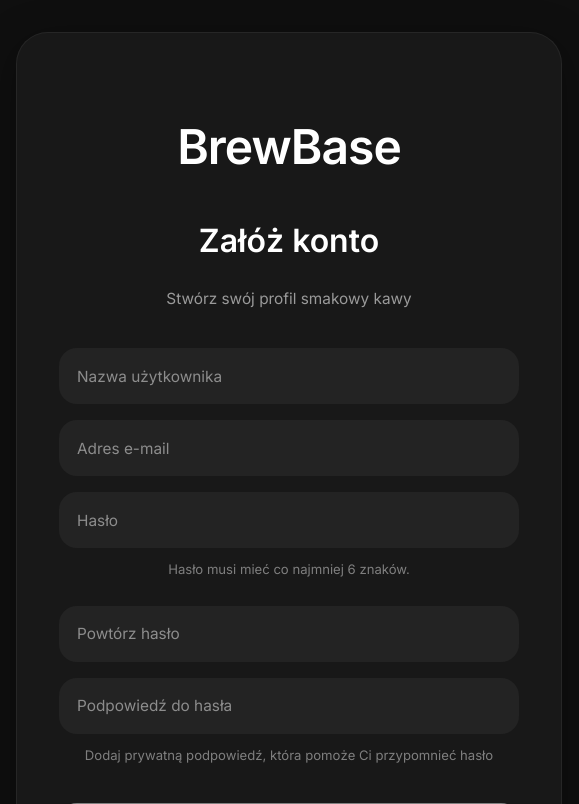
Scenario: RegisterPage › shows error when registration fails
Type "existing-user" into the field with placeholder "Nazwa użytkownika". click: (289, 376)
box: [59,348,519,404]
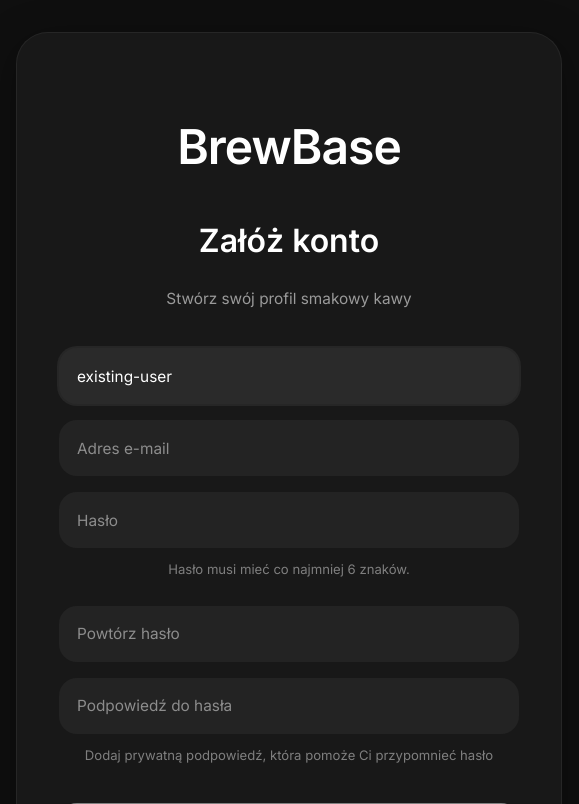
Type "existing-user@brewbase.local" into the field with placeholder "Adres e-mail". click: (289, 448)
box: [59,420,519,476]
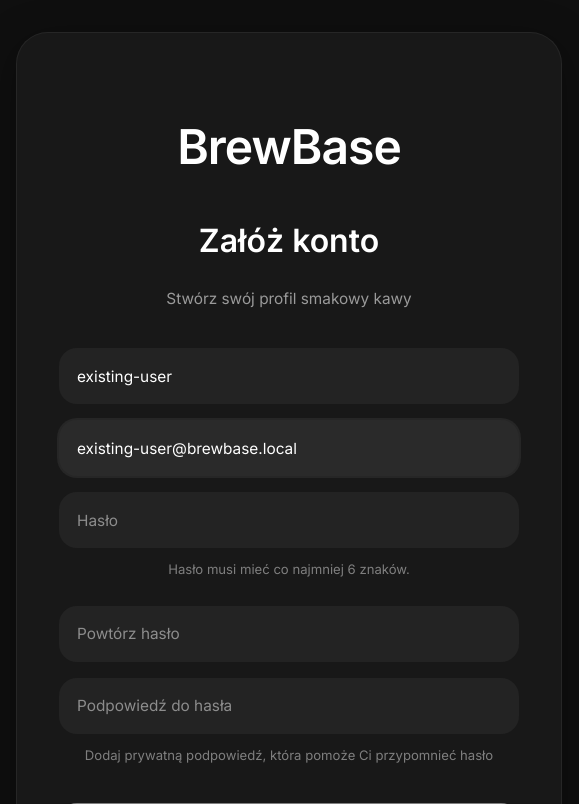
Type "secret123" into the password field with placeholder "Hasło". click: (289, 520)
box: [59,492,519,548]
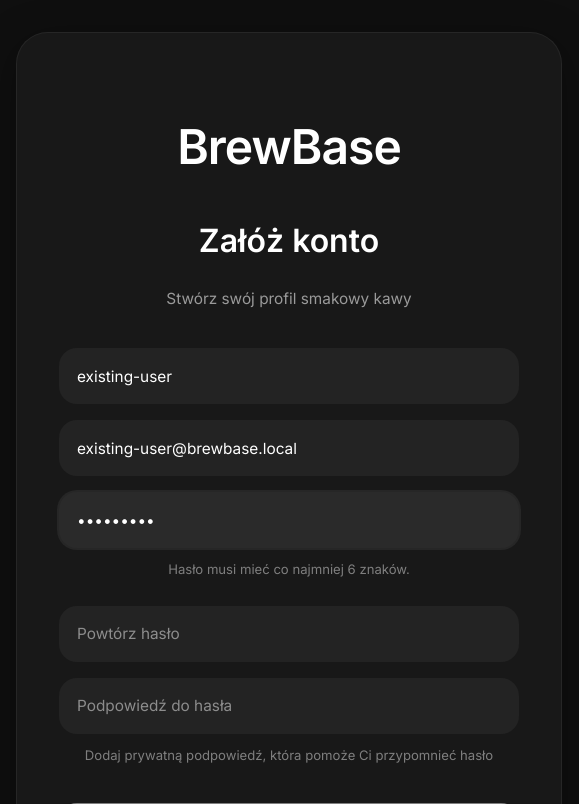
Type "secret123" into the password field with placeholder "Powtórz hasło". click: (289, 634)
box: [59,606,519,662]
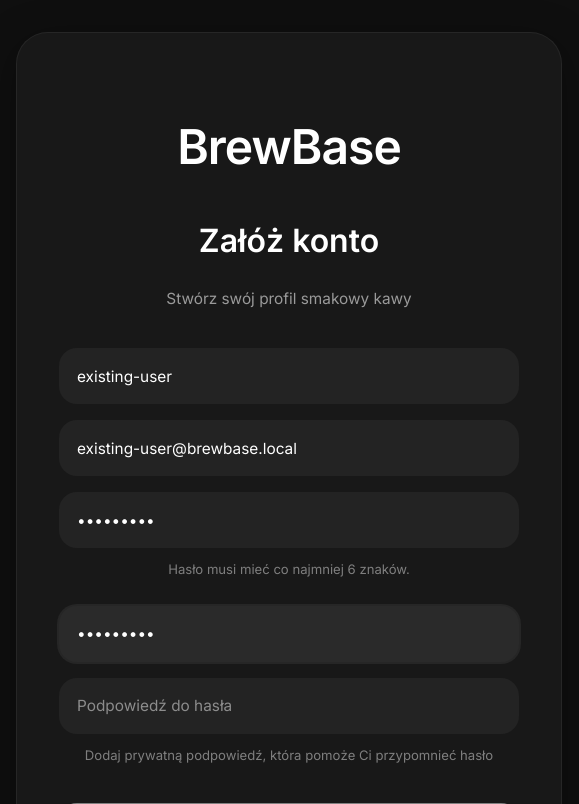
Type "moja podpowiedz" into the field with placeholder "Podpowiedź do hasła". click: (289, 706)
box: [59,678,519,734]
(page scrolled)
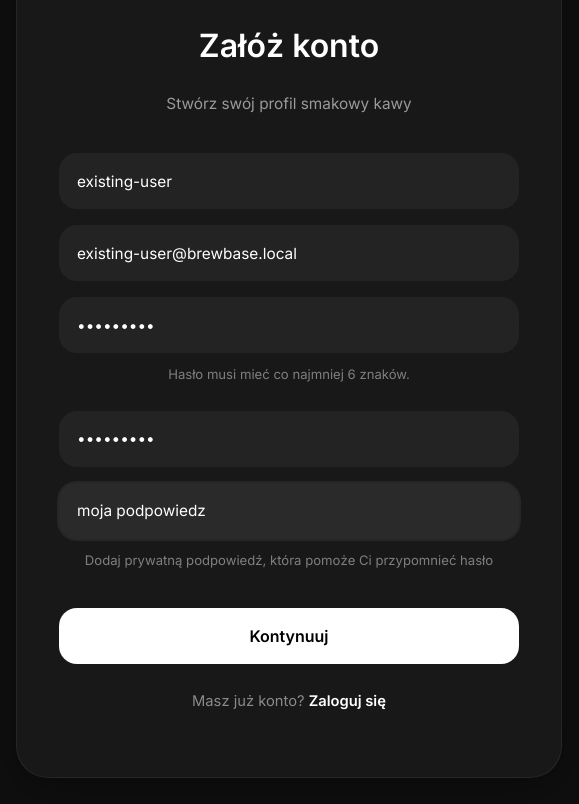
Click the button "Kontynuuj". click: (289, 636)
box: [59,608,519,664]
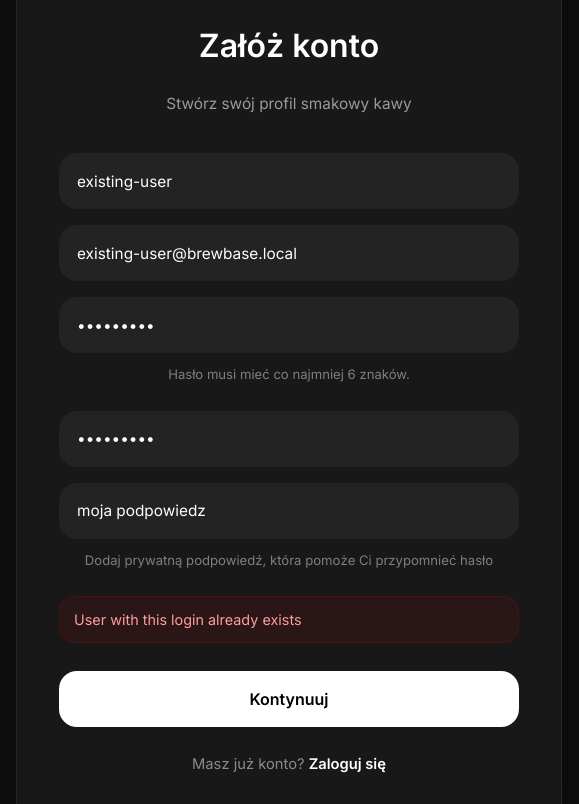
Now the text "User with this login already exists" is shown, box [59,596,519,644]
